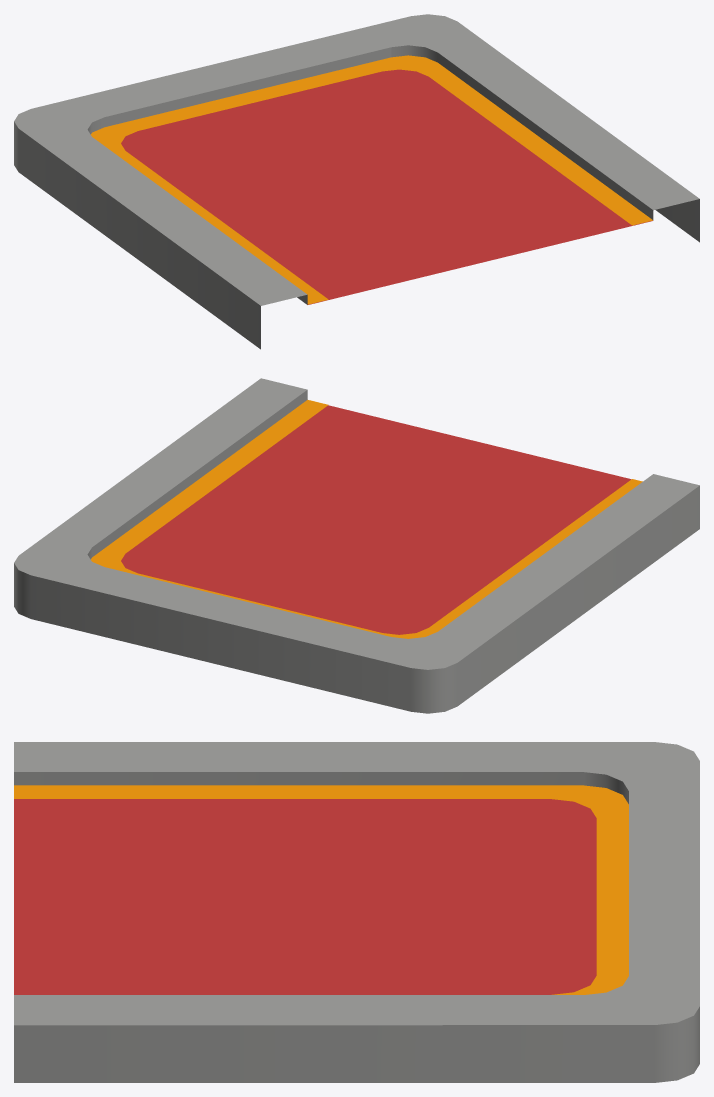
The model's file is Road_C_16.fbx.
3 views of the same model, one above another, from view 1: azimuth 30°, elevation 25°; view 2: azimuth 150°, elevation 25°; view 3: azimuth 270°, elevation 25° (orthographic). The views are drawn at different scales.
Visible parts, largest first — view 1: Road_C_16; view 2: Road_C_16; view 3: Road_C_16.
Boxes of the visible parts, x1=… form: Road_C_16: x1=14, y1=14, x2=699, y2=349; Road_C_16: x1=14, y1=378, x2=699, y2=713; Road_C_16: x1=14, y1=742, x2=699, y2=1082.
Size of the model in its own units: 436 by 41.51 by 446.
